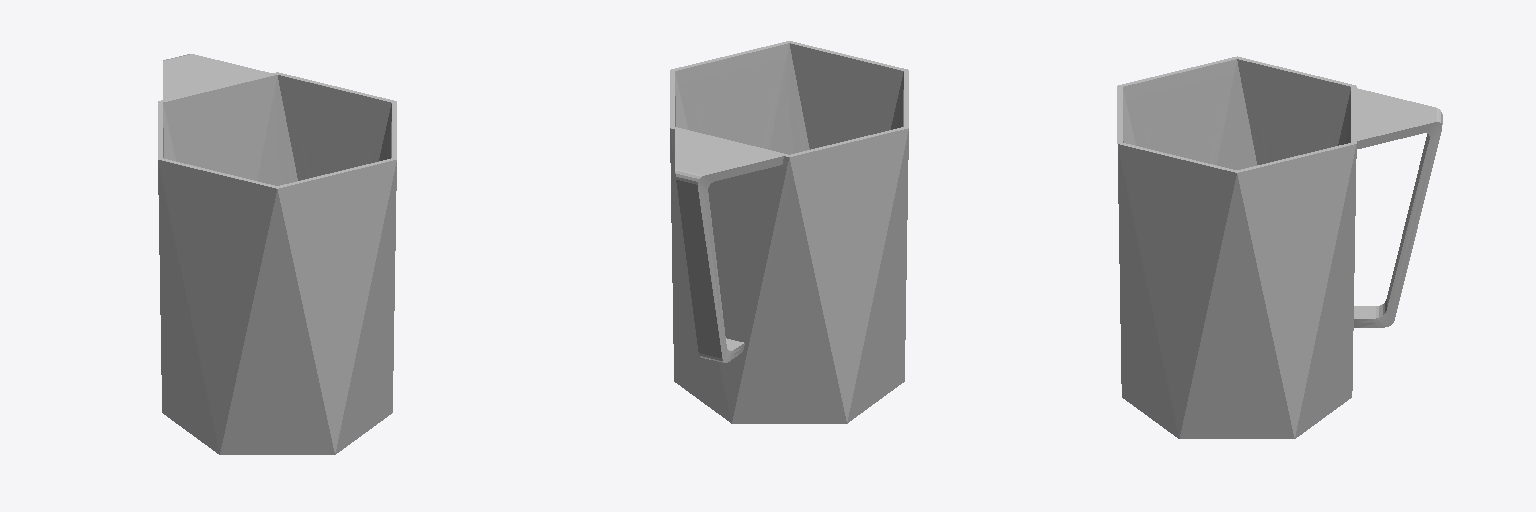
The model's file is mug-027.obj.
The picture shows the model from 3 angles: view 1: azimuth 30°, elevation 25°; view 2: azimuth 150°, elevation 25°; view 3: azimuth 270°, elevation 25°; orthographic projection.
Visible parts, largest first — view 1: mug; view 2: mug; view 3: mug.
Part boxes in pixels (bbox=[...]): mug: bbox=[158, 54, 396, 454]; mug: bbox=[670, 41, 908, 423]; mug: bbox=[1117, 56, 1442, 438].
Bounding box in the file's own units: 0.0912 × 0.103 × 0.1074.